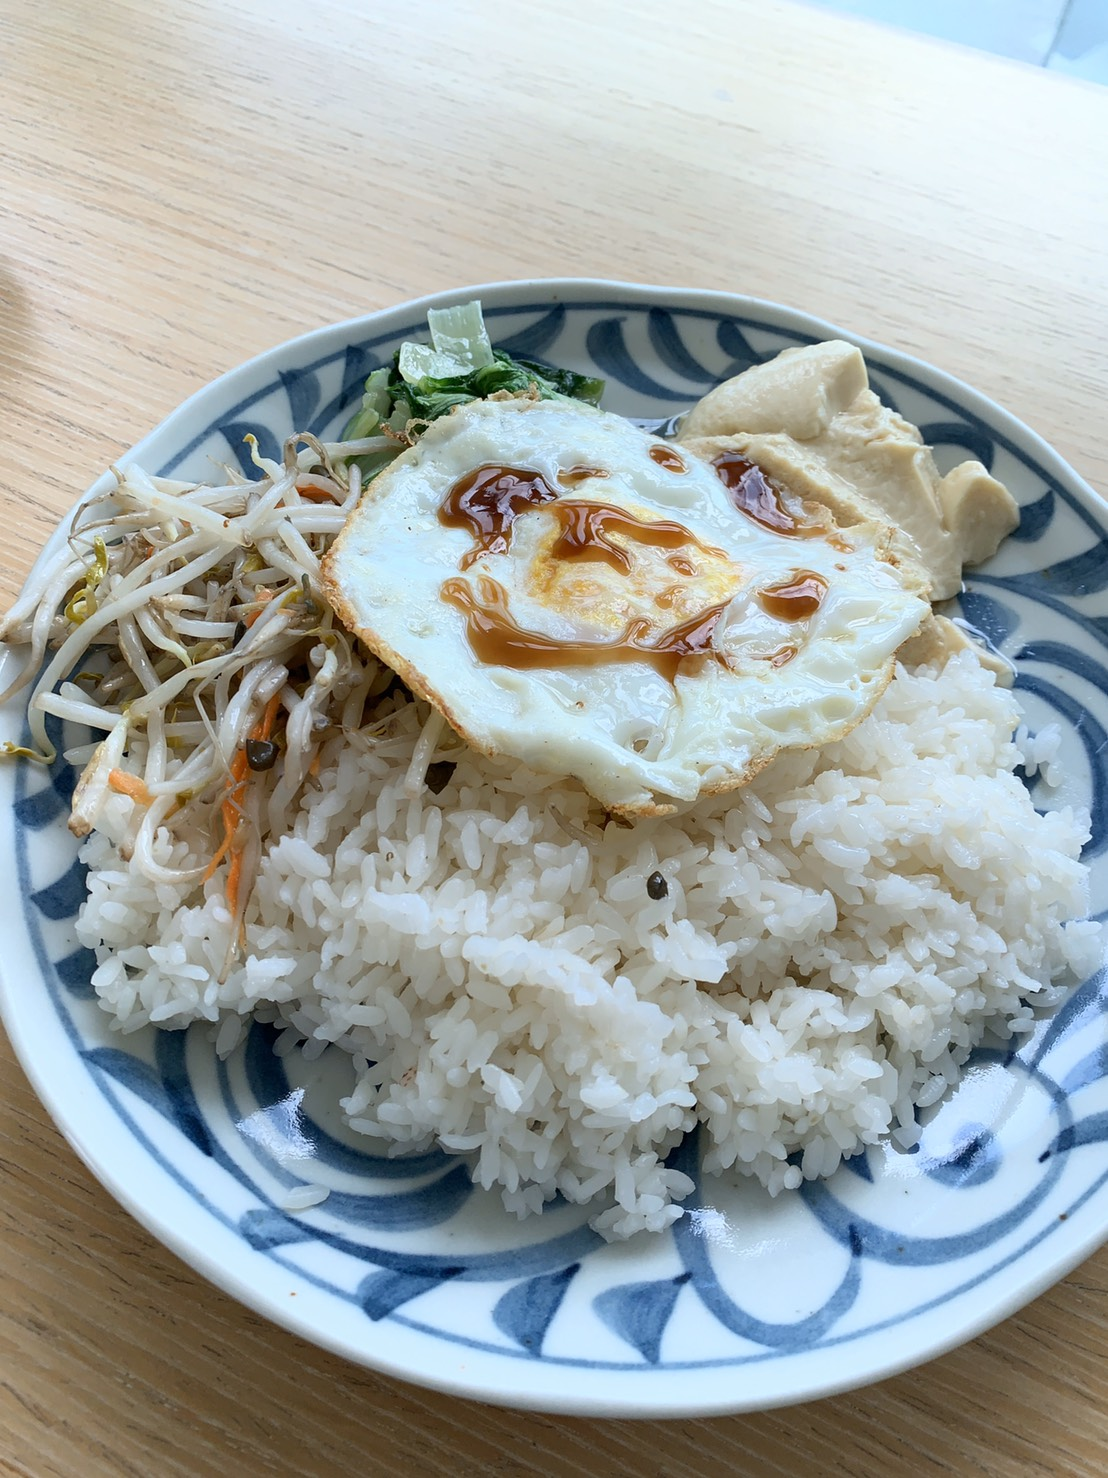fried_eggs: (404, 432, 831, 755)
mung_bean_sprouts: (77, 499, 356, 769)
rice: (292, 784, 1016, 1128)
